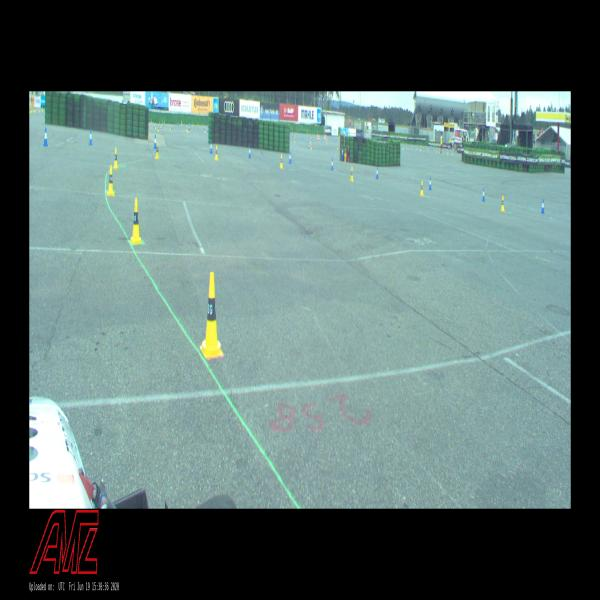blue_cone: (44, 128, 48, 147), (153, 134, 157, 148), (89, 129, 92, 146), (248, 146, 252, 158), (541, 199, 544, 214), (482, 188, 485, 201), (429, 177, 432, 190), (331, 159, 334, 170), (210, 141, 212, 153), (289, 152, 291, 164), (376, 168, 378, 178)
yellow_cone: (200, 273, 223, 358), (130, 198, 142, 245), (107, 166, 114, 196), (113, 147, 118, 169), (155, 142, 159, 159), (501, 196, 504, 211), (350, 167, 353, 182), (215, 145, 218, 160), (421, 181, 424, 196), (280, 155, 283, 168)
